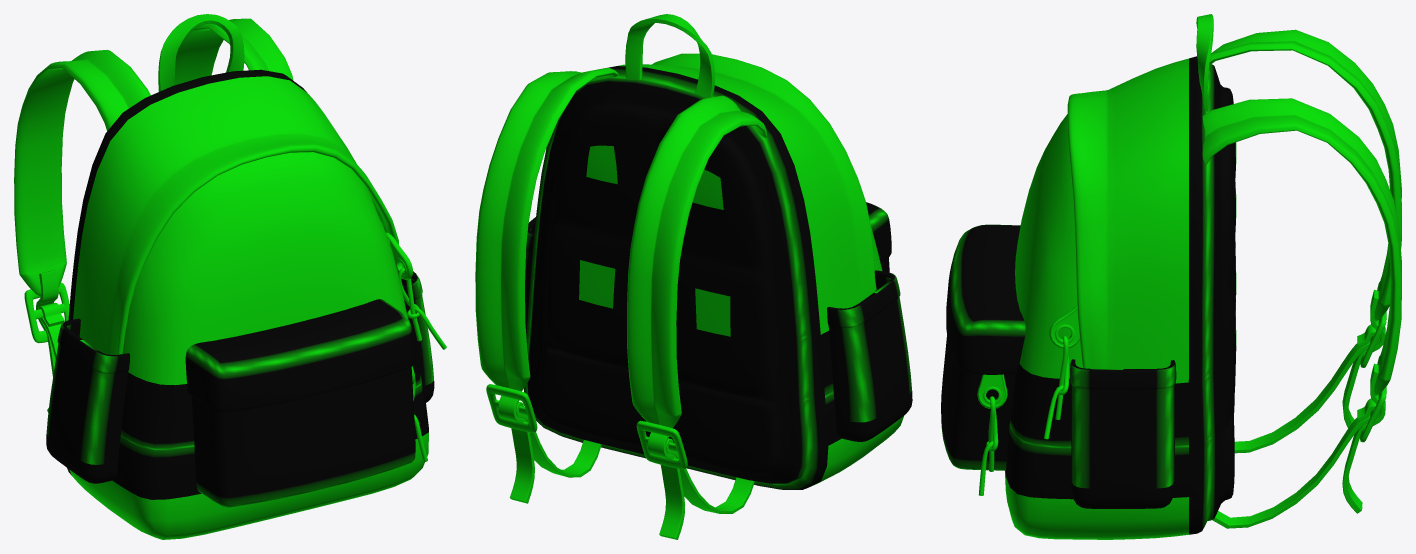
Rendered from Backpack.fbx.
3 renders of one model, left to right at view 1: azimuth 30°, elevation 25°; view 2: azimuth 150°, elevation 25°; view 3: azimuth 270°, elevation 25°, orthographic. The views are drawn at different scales.
Visible parts, largest first — view 1: Backpack; view 2: Backpack; view 3: Backpack.
Part boxes in pixels (bbox=[...]): Backpack: bbox=[14, 14, 446, 539]; Backpack: bbox=[475, 14, 912, 539]; Backpack: bbox=[941, 14, 1401, 539].
Bounding box in the file's own units: 92.93 × 112 × 99.77.
